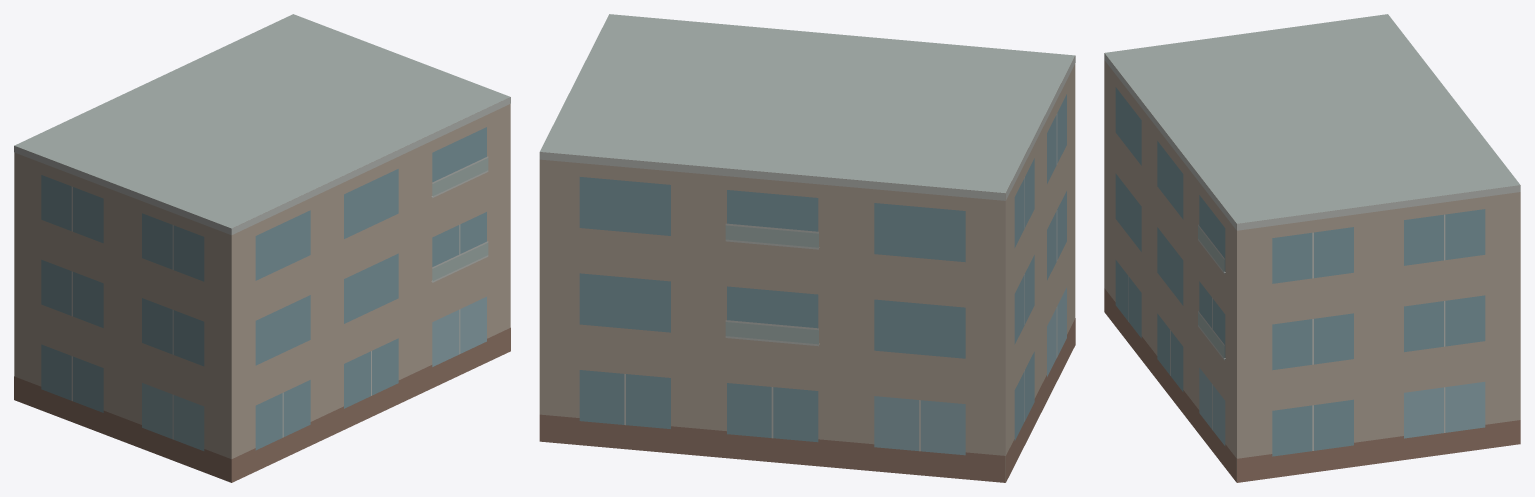
The model's file is survey-upis-32709086.glb.
3 renders of one model, left to right at view 1: azimuth 30°, elevation 25°; view 2: azimuth 150°, elevation 25°; view 3: azimuth 270°, elevation 25°, orthographic. The views are drawn at different scales.
Parts seen in each view (by area): view 1: survey-upis-32709086.tmp; view 2: survey-upis-32709086.tmp; view 3: survey-upis-32709086.tmp.
Part boxes in pixels (bbox=[...]): survey-upis-32709086.tmp: bbox=[14, 14, 510, 482]; survey-upis-32709086.tmp: bbox=[539, 14, 1075, 482]; survey-upis-32709086.tmp: bbox=[1104, 14, 1520, 482].
Bounding box in the file's own units: 15.91 × 9.15 × 13.34.
